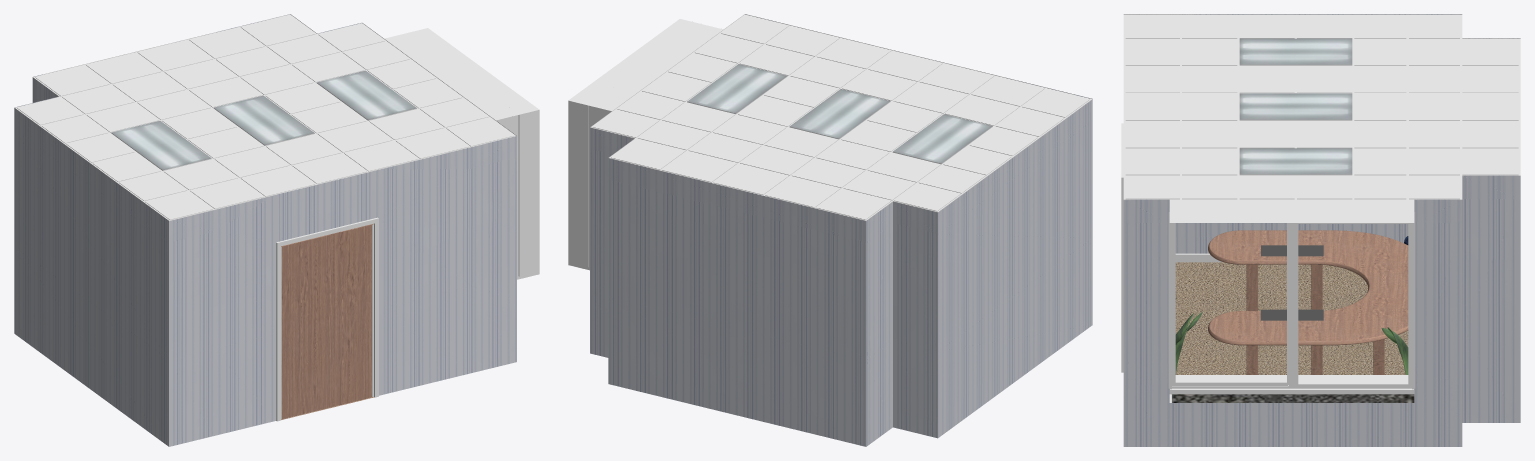
Rendered from meeting-room.gltf.
The picture shows the model from 3 angles, left to right: view 1: azimuth 30°, elevation 25°; view 2: azimuth 150°, elevation 25°; view 3: azimuth 270°, elevation 25°; orthographic projection. The views are drawn at different scales.
Parts seen in each view (by area): view 1: WallBoard; view 2: WallBoard; view 3: WallBoard.
Boxes of the visible parts, left/top/right/bottom form: WallBoard: left=14, top=14, right=539, bottom=446; WallBoard: left=568, top=14, right=1092, bottom=446; WallBoard: left=1121, top=14, right=1520, bottom=446.
Size of the model in its own units: 5.01 by 2.77 by 4.05.
Materials: 4 (4 with a texture image).
